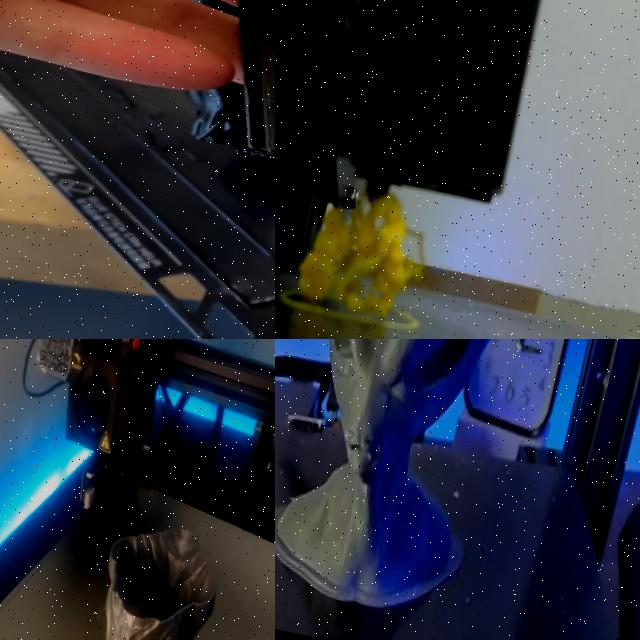spaghetti: (280, 194, 424, 331)
